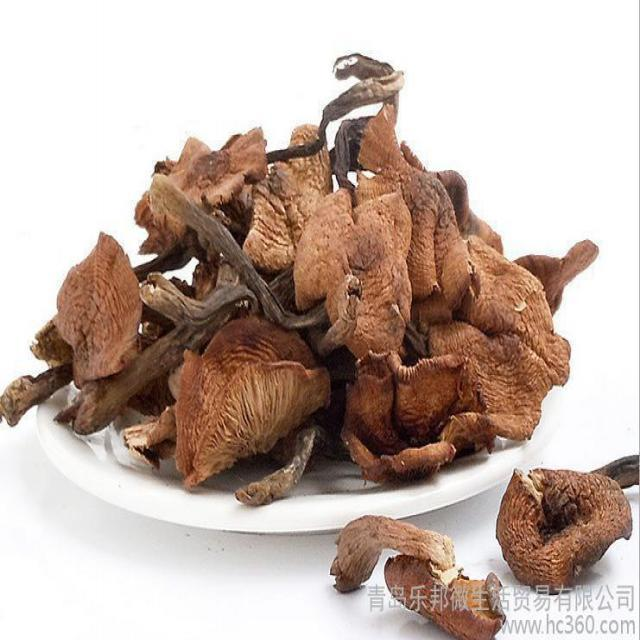Armillaria mellea: (2, 49, 600, 502), (333, 513, 507, 638), (497, 457, 640, 591)
